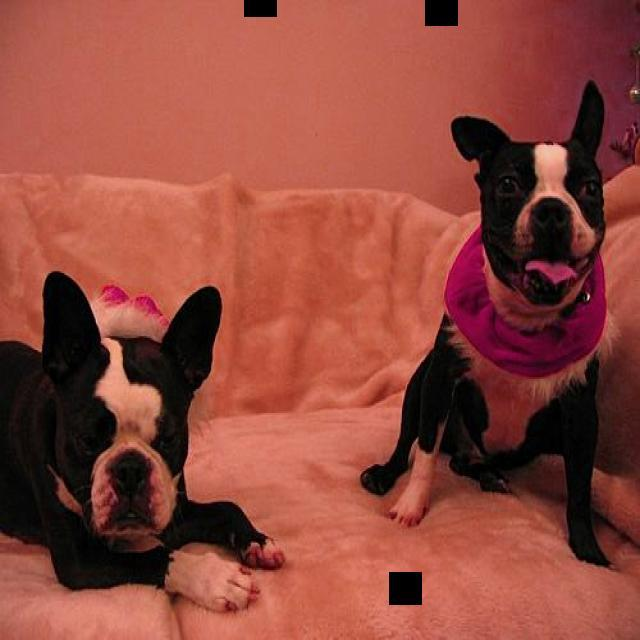adult_dog: (359, 76, 614, 572), (1, 266, 287, 615)
